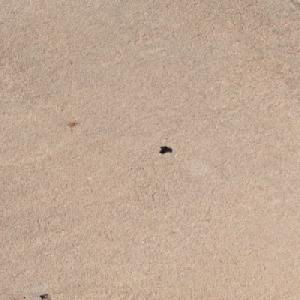BoltWasher: (158, 145, 169, 153)
